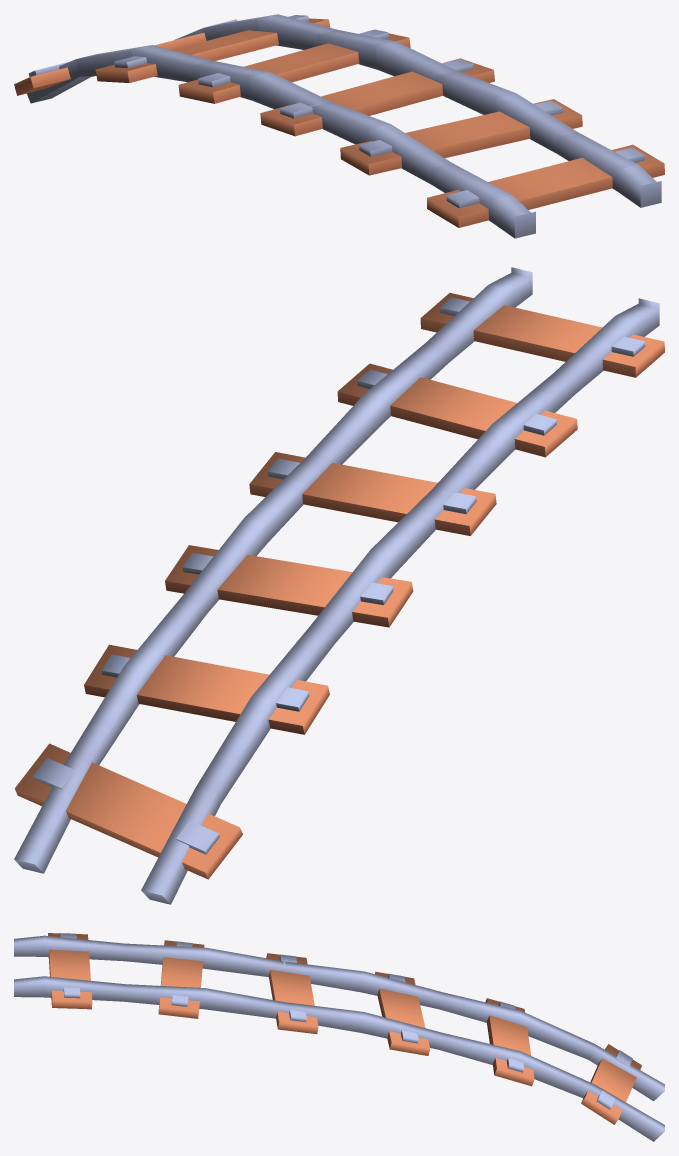
File: kenney-train-railroad-damaged-straight-hill-end.glb
The picture shows the model from 3 angles, top to bottom: view 1: azimuth 30°, elevation 25°; view 2: azimuth 150°, elevation 25°; view 3: azimuth 270°, elevation 25°; orthographic projection. The views are drawn at different scales.
Visible parts, largest first — view 1: railroad-damaged-straight-hill-end; view 2: railroad-damaged-straight-hill-end; view 3: railroad-damaged-straight-hill-end.
Boxes of the visible parts, left/top/right/bottom form: railroad-damaged-straight-hill-end: left=14, top=14, right=664, bottom=238; railroad-damaged-straight-hill-end: left=14, top=267, right=664, bottom=904; railroad-damaged-straight-hill-end: left=14, top=933, right=664, bottom=1141.
Bounding box in the file's own units: 1.03 × 1.1 × 4.07.
Materials: 1 (1 with a texture image).
